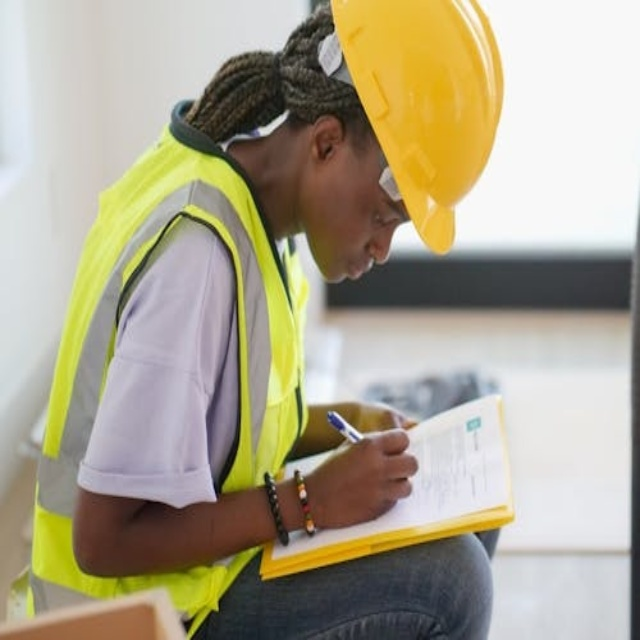Sin_gafas: (340, 142, 407, 244)
Sin_guantes: (301, 415, 422, 538)
Sin_mascara: (326, 242, 380, 300)
